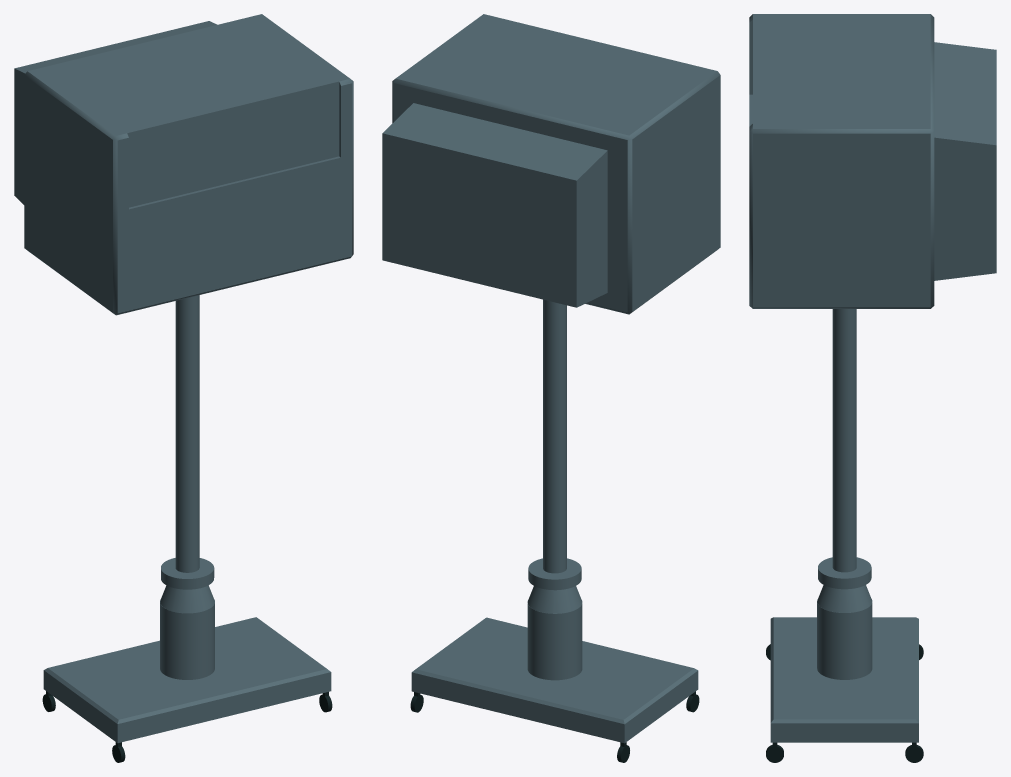
The picture shows the model from 3 angles, left to right: view 1: azimuth 30°, elevation 25°; view 2: azimuth 150°, elevation 25°; view 3: azimuth 270°, elevation 25°; orthographic projection.
Visible parts, largest first — view 1: housing, plinth, sleeve, projection; view 2: housing, projection, plinth, sleeve; view 3: housing, plinth, projection, sleeve.
Boxes of the visible parts, x1,y1,x2,y2 form: housing: [24, 14, 353, 315]; plinth: [43, 617, 331, 743]; sleeve: [160, 295, 214, 679]; projection: [14, 21, 217, 204]; housing: [392, 14, 720, 314]; projection: [382, 103, 607, 307]; plinth: [411, 617, 698, 743]; sleeve: [527, 299, 582, 680]; housing: [749, 14, 934, 308]; plinth: [770, 617, 918, 742]; projection: [934, 42, 996, 280]; sleeve: [817, 309, 872, 679].
Bounding box in the file's own units: 0.474 × 1.2 × 0.42.
